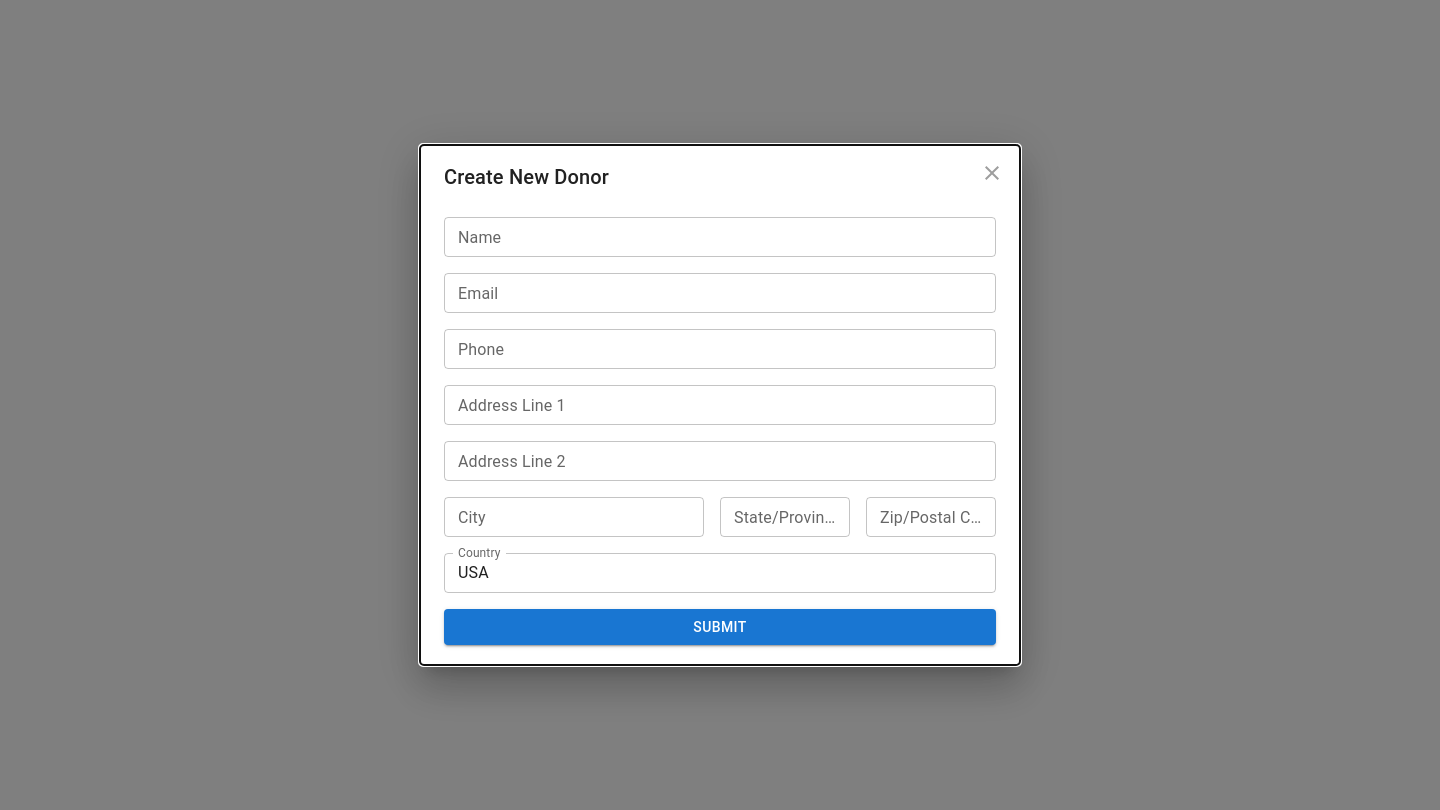
QuickDonorCreateDialog › shows validation error (422) in Snackbar when API returns validation errors
Type "A" into the field labelled "Name" at (720, 237), box left=444, top=217, right=996, bottom=257
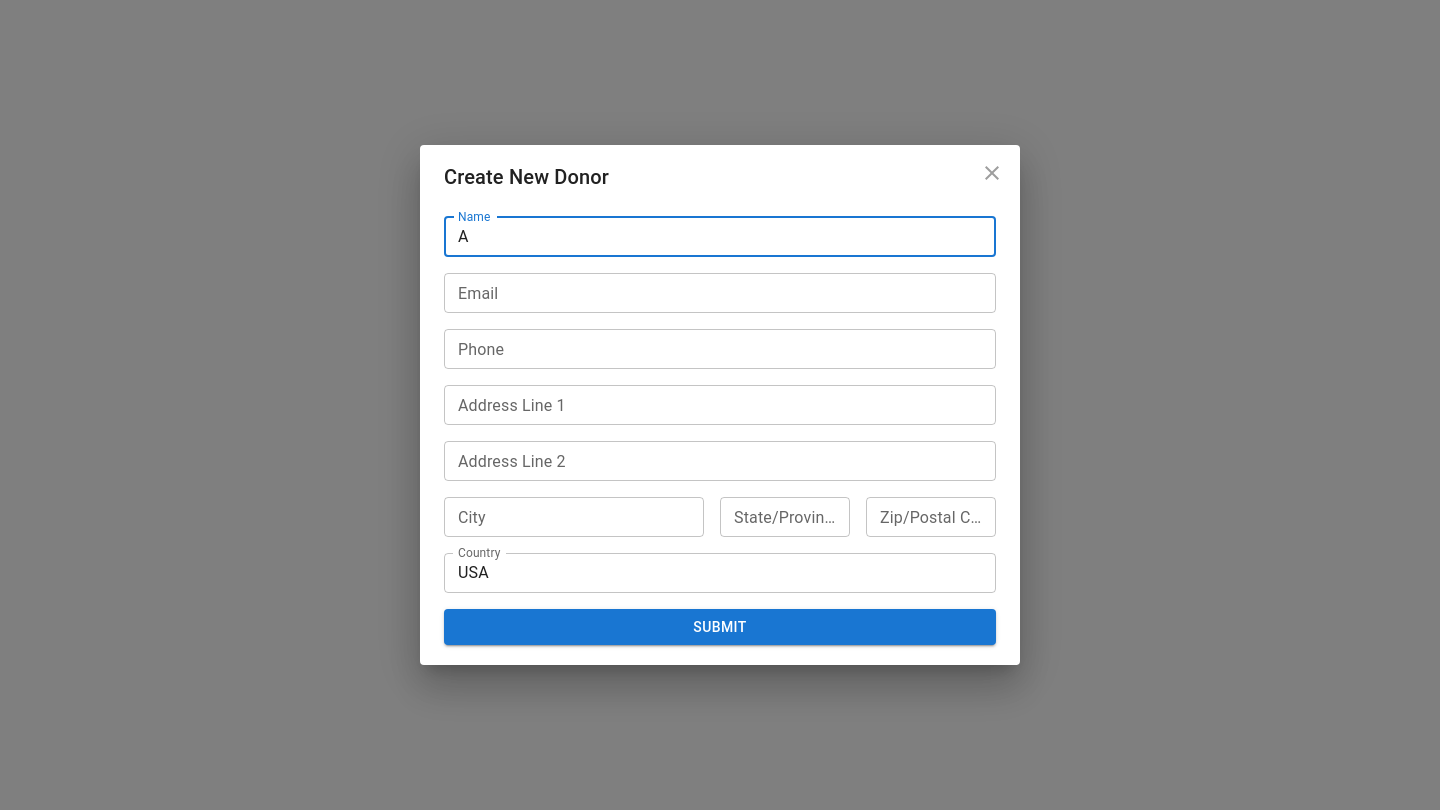
Type "duplicate@example.com" into the field labelled "Email" at (720, 293), box left=444, top=273, right=996, bottom=313
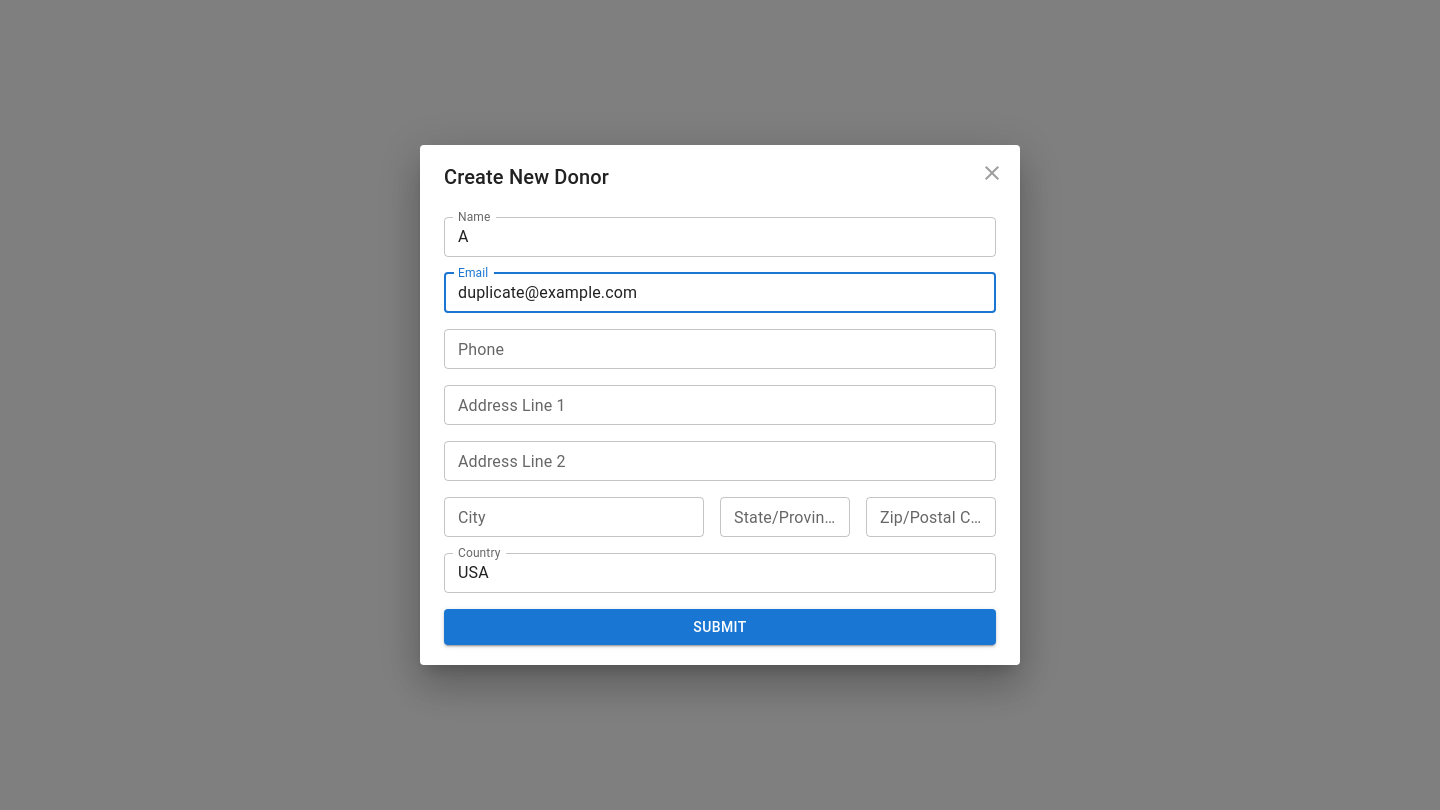
Click the button "Submit" at (720, 627), box left=444, top=609, right=996, bottom=645
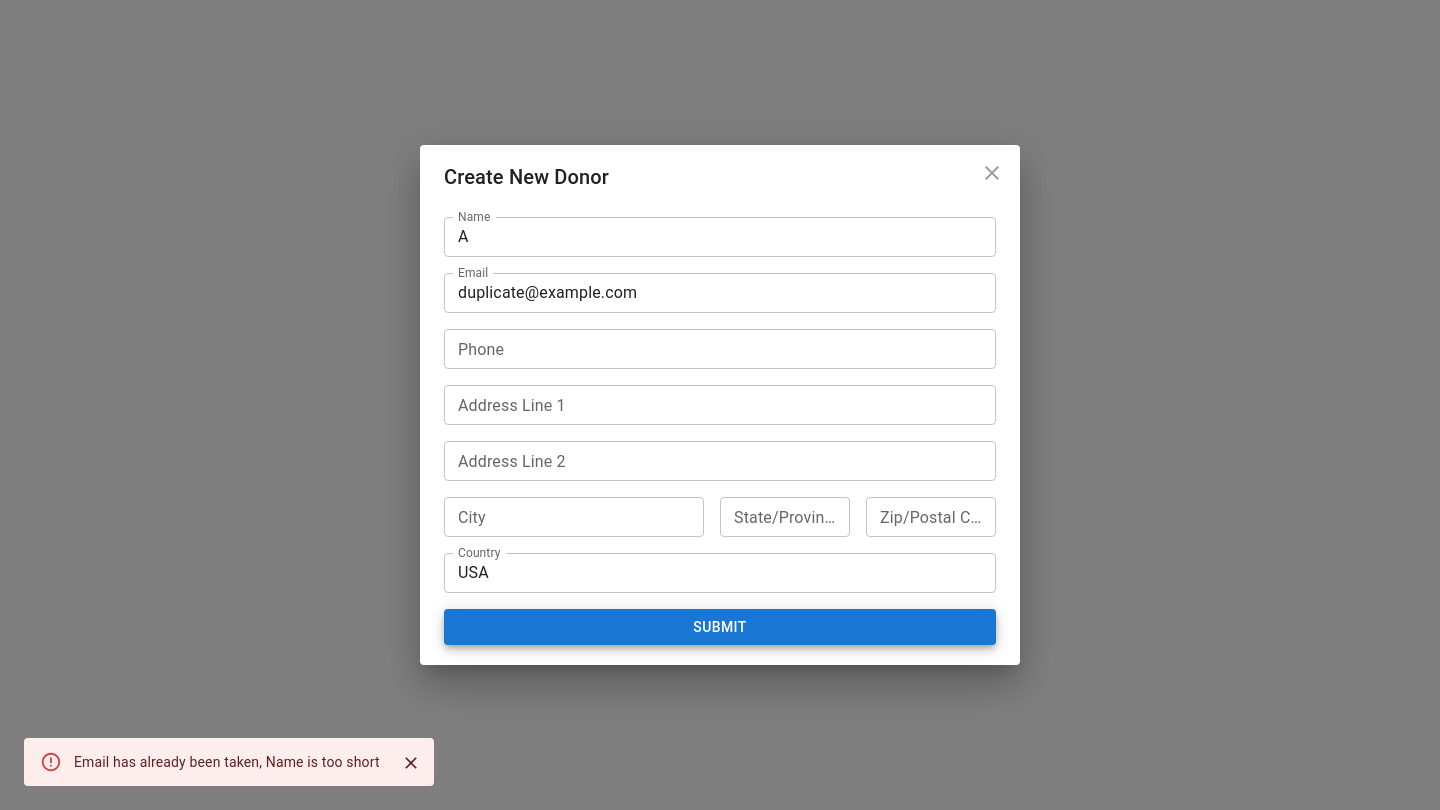
Expected: the text "Email has already been taken, Name is too short" is shown, left=74, top=754, right=380, bottom=770
